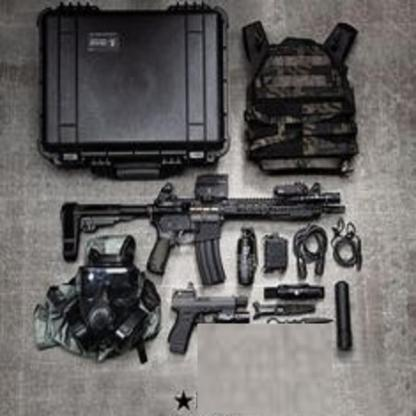Grenade: (236, 222, 260, 287)
Gun: (59, 171, 346, 288)
Pistol: (167, 284, 249, 357)
